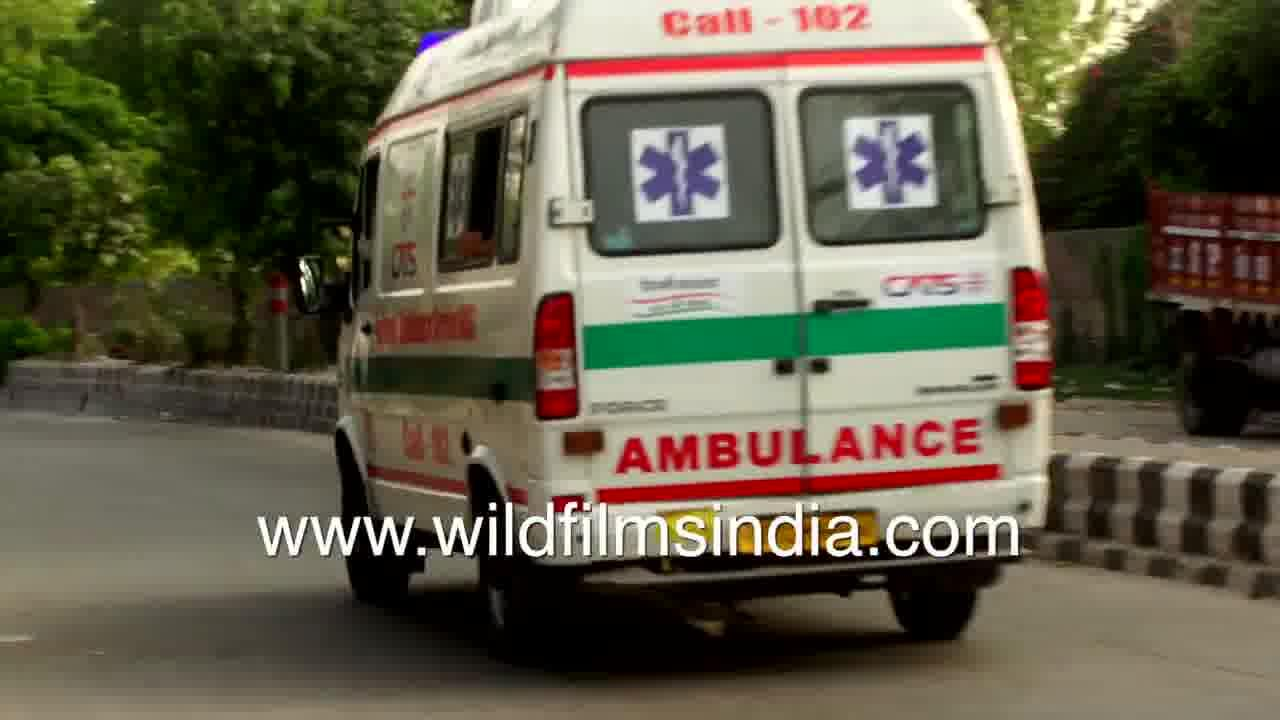AMBULANCE: (317, 0, 1123, 512)
